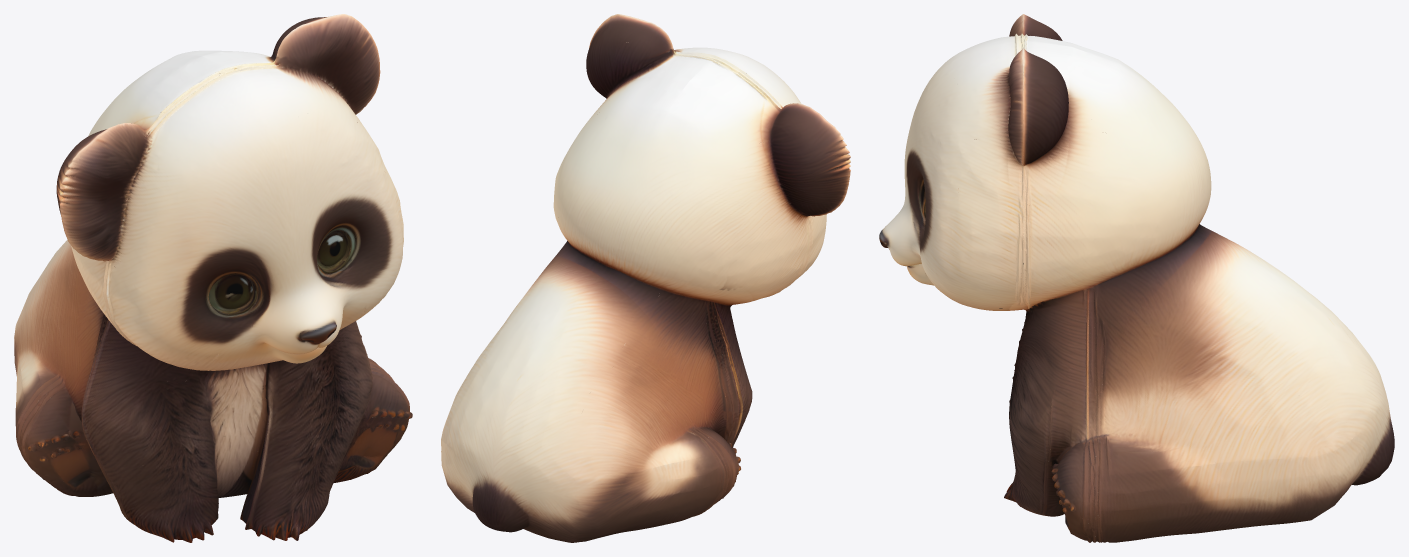
File: bear.glb
3 views of the same model, side by side, from view 1: azimuth 30°, elevation 25°; view 2: azimuth 150°, elevation 25°; view 3: azimuth 270°, elevation 25° (orthographic). The views are drawn at different scales.
Parts seen in each view (by area): view 1: geometry_0; view 2: geometry_0; view 3: geometry_0.
Boxes of the visible parts, <box> form: geometry_0: <box>14,14,412,542</box>; geometry_0: <box>441,14,850,542</box>; geometry_0: <box>879,14,1394,542</box>.
Bounding box in the file's own units: 1.48 × 1.89 × 1.9.
1 material, 1 textured.
